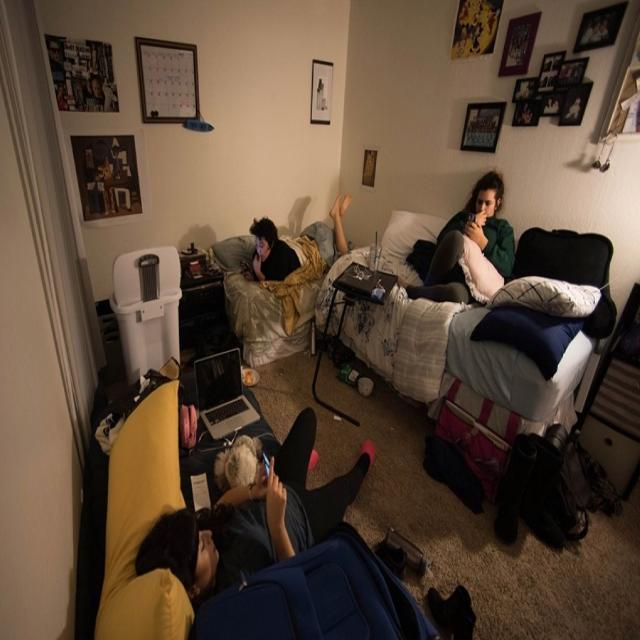adult: (133, 402, 380, 607), (391, 172, 518, 304), (249, 190, 350, 288)
